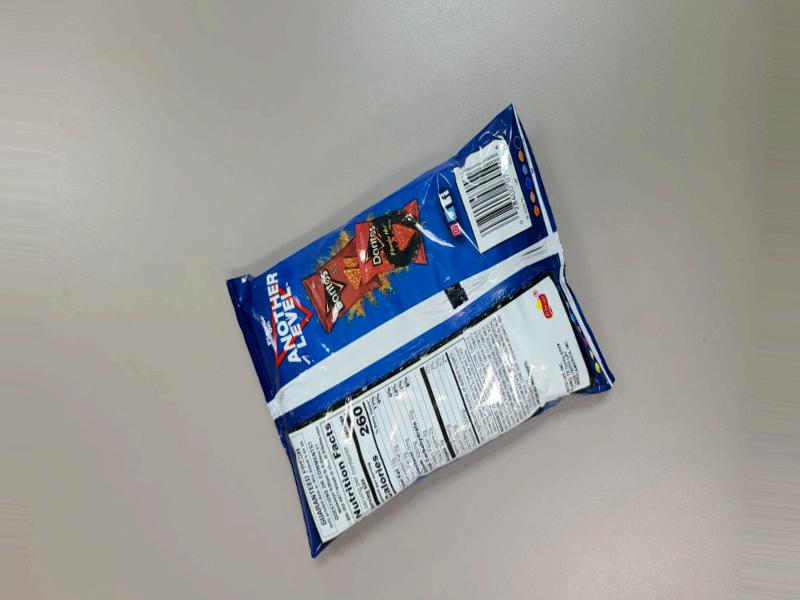doritos: (339, 197, 637, 600)
